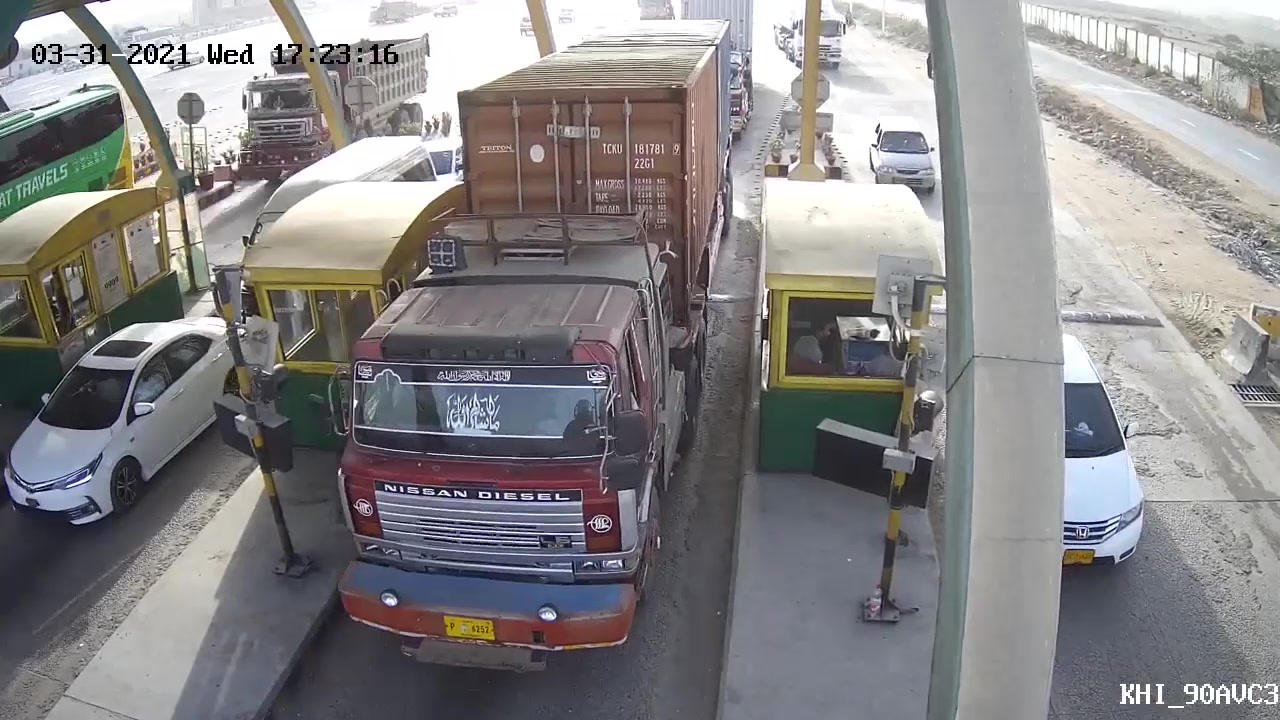F6: (336, 18, 743, 664)
